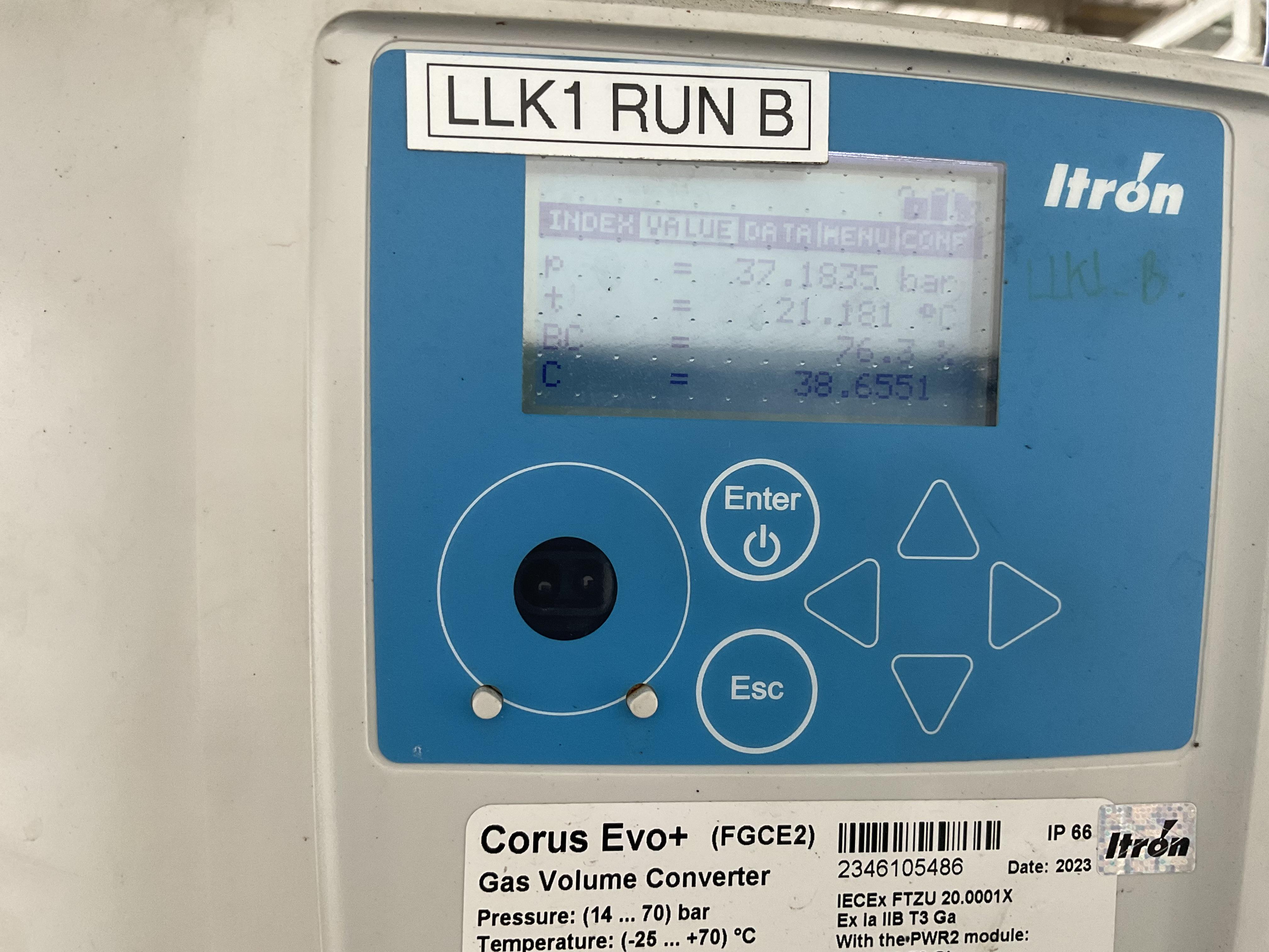digital_screen: (519, 143, 1005, 426)
